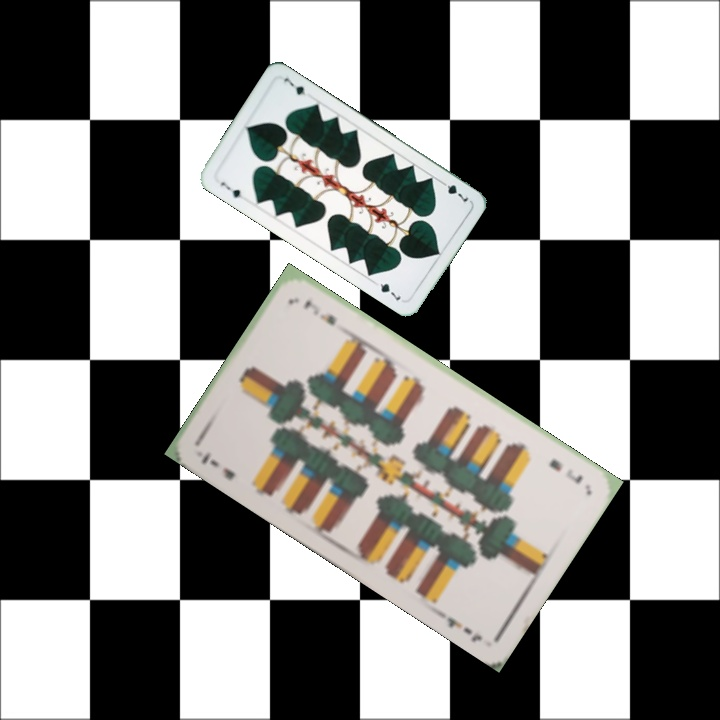E7: (197, 447, 238, 483), (545, 454, 586, 487)
G7: (436, 176, 471, 206), (217, 178, 247, 203)
